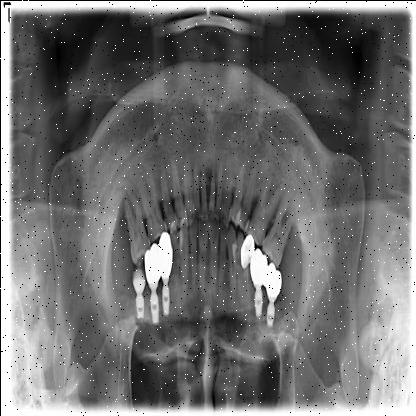Bicon: (250, 286, 264, 322), (263, 298, 277, 330), (159, 284, 172, 318), (133, 288, 145, 322), (148, 292, 160, 324)
